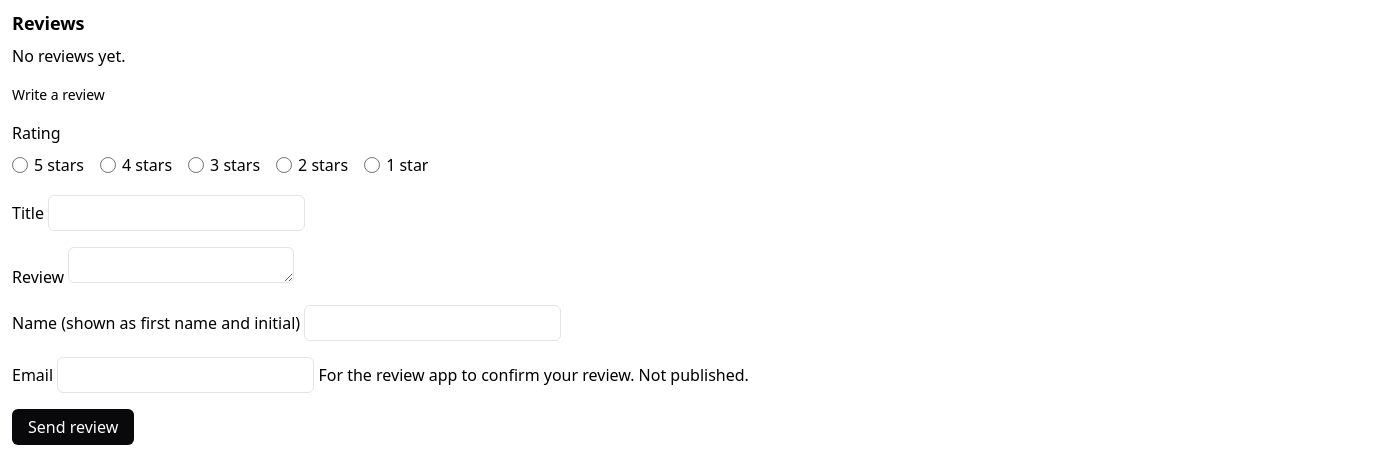
Scenario: the review form › says thanks once sent
Click the radio button labelled "5 stars" at [20, 165], box [12,157,28,173]
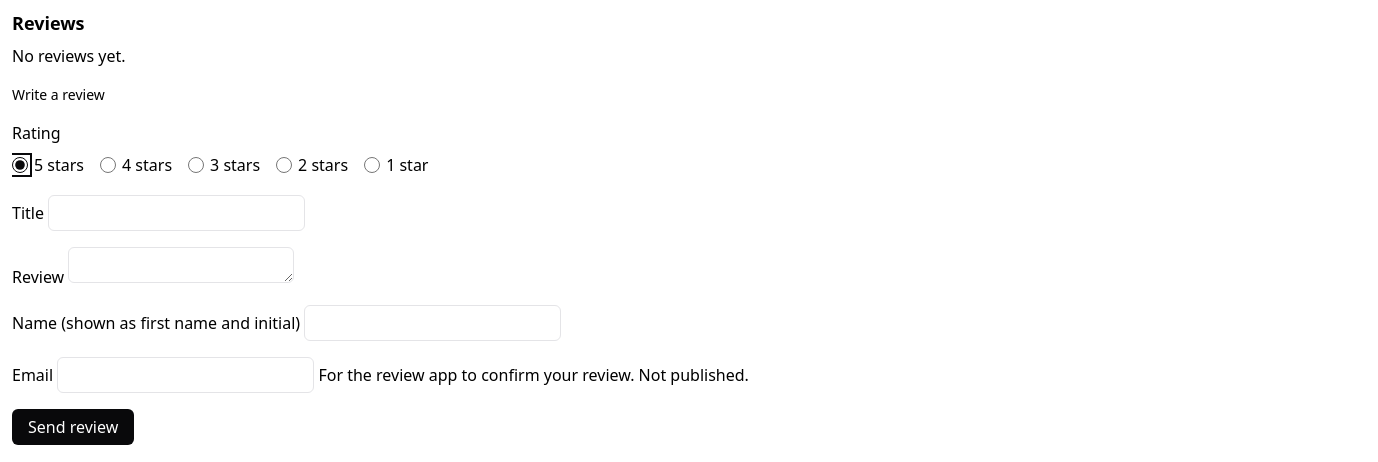
Type "Great" into the field labelled "Title" at [177, 213], box [48,195,305,231]
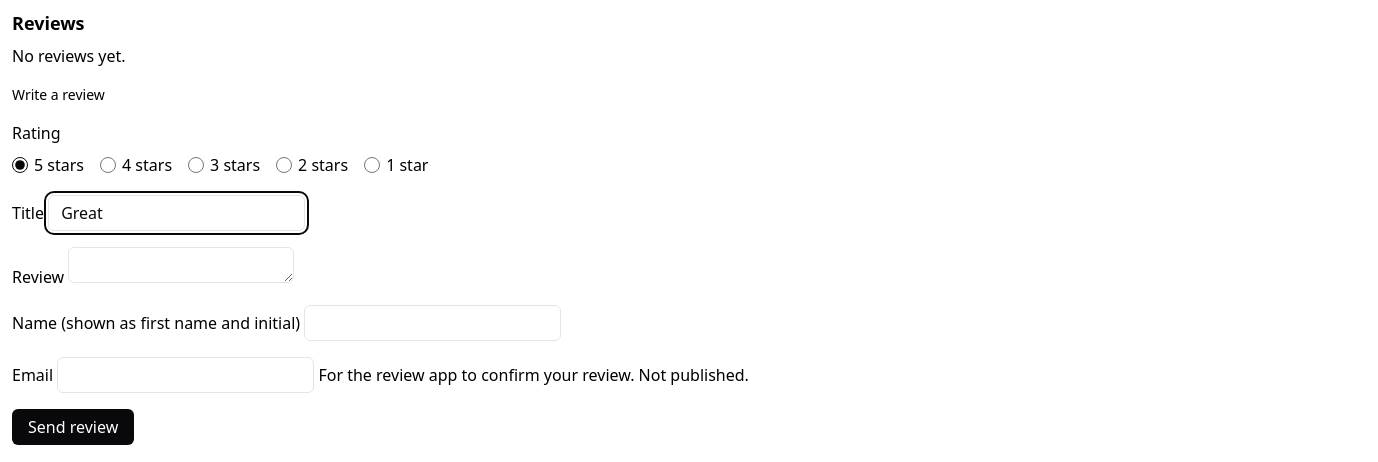
Type "Mixes well and tastes good every time." into the text box labelled "Review" at [181, 265], box [68,247,294,283]
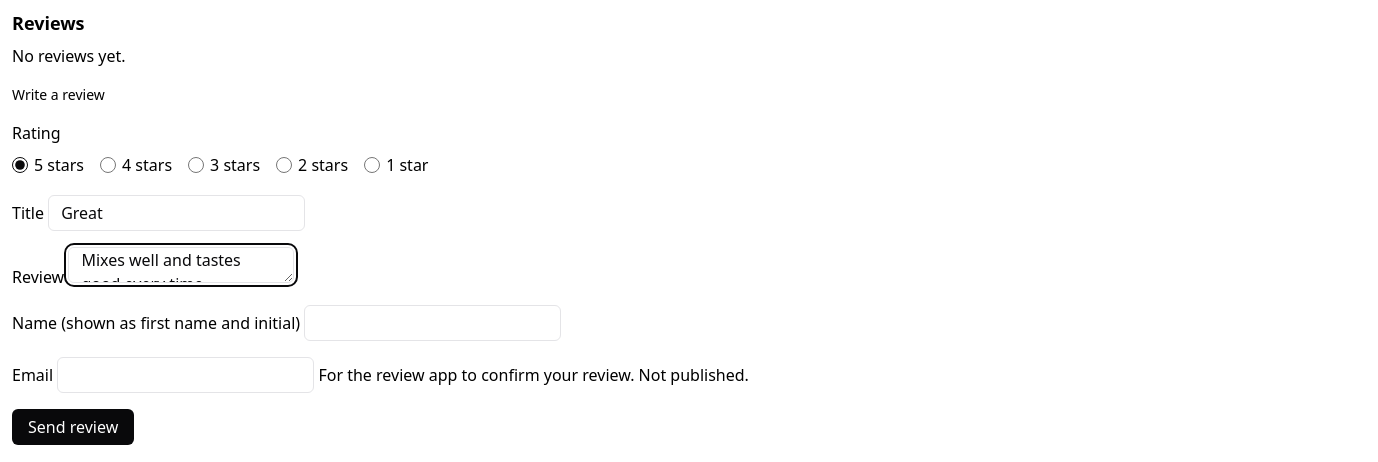
Type "Avery Example" into the field labelled "Name (shown as first name and initial)" at [433, 323], box [304,305,561,341]
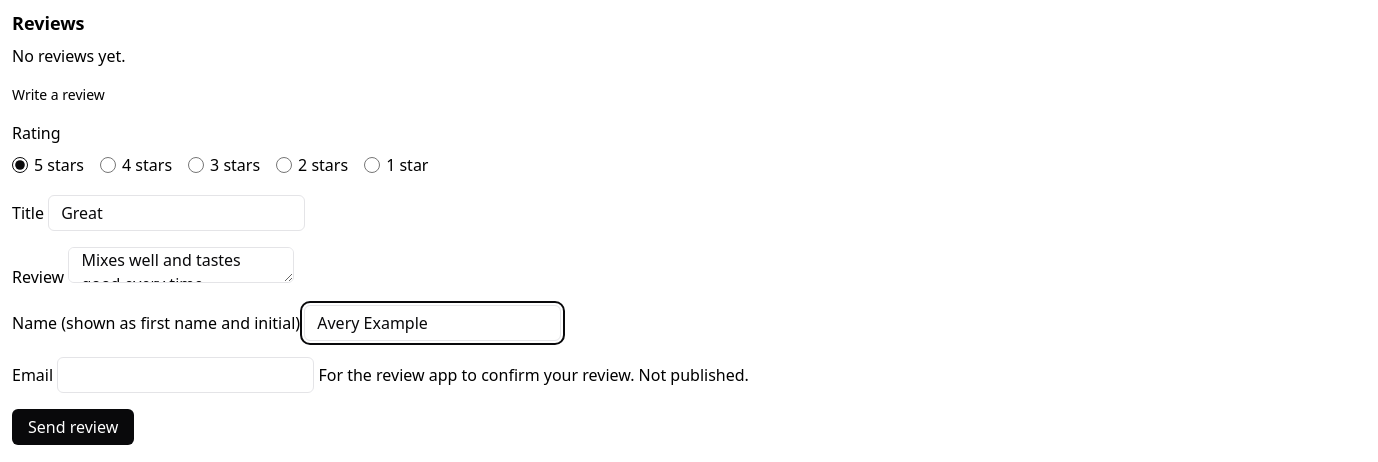
Type "avery@example.test" into the field labelled "Email" at [186, 375], box [57,357,314,393]
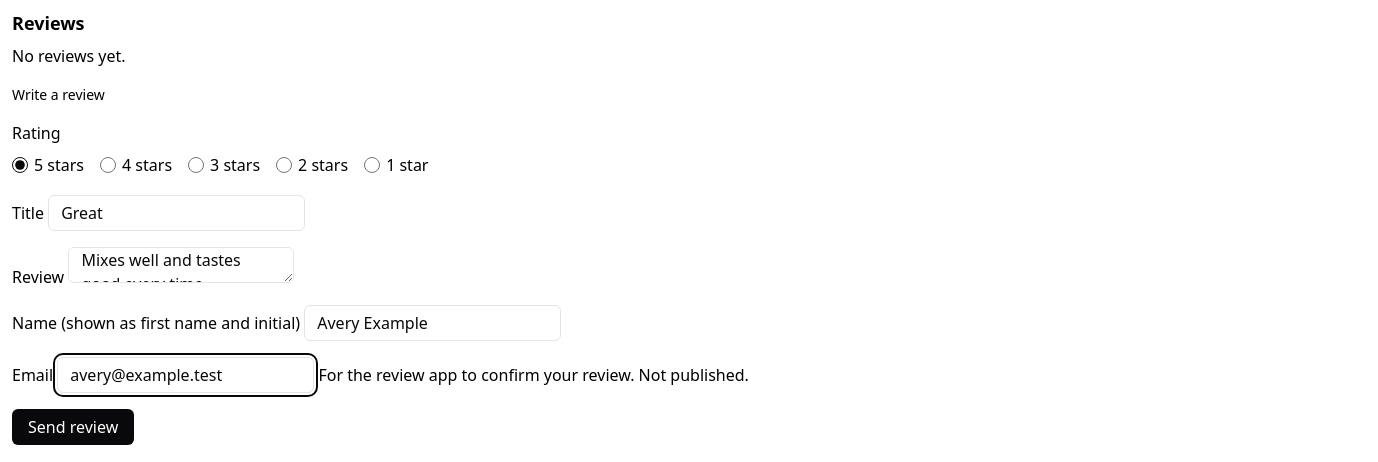
Click the button "Send review" at [73, 427], box [12,409,134,445]
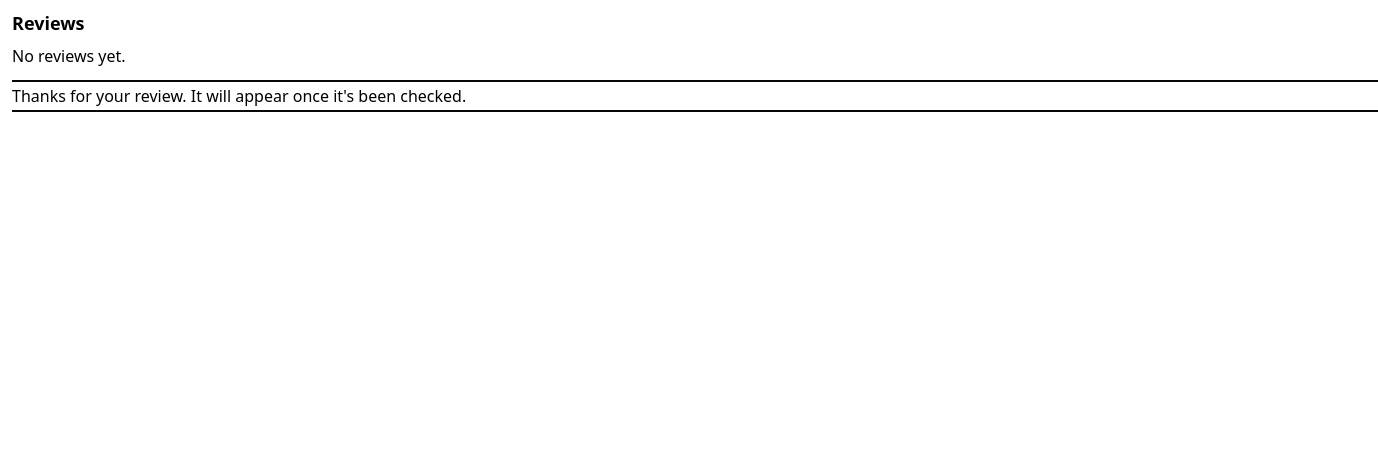
Check: the message reads "Thanks for your review. It will appear once it's been checked.", box [12,85,466,107]
